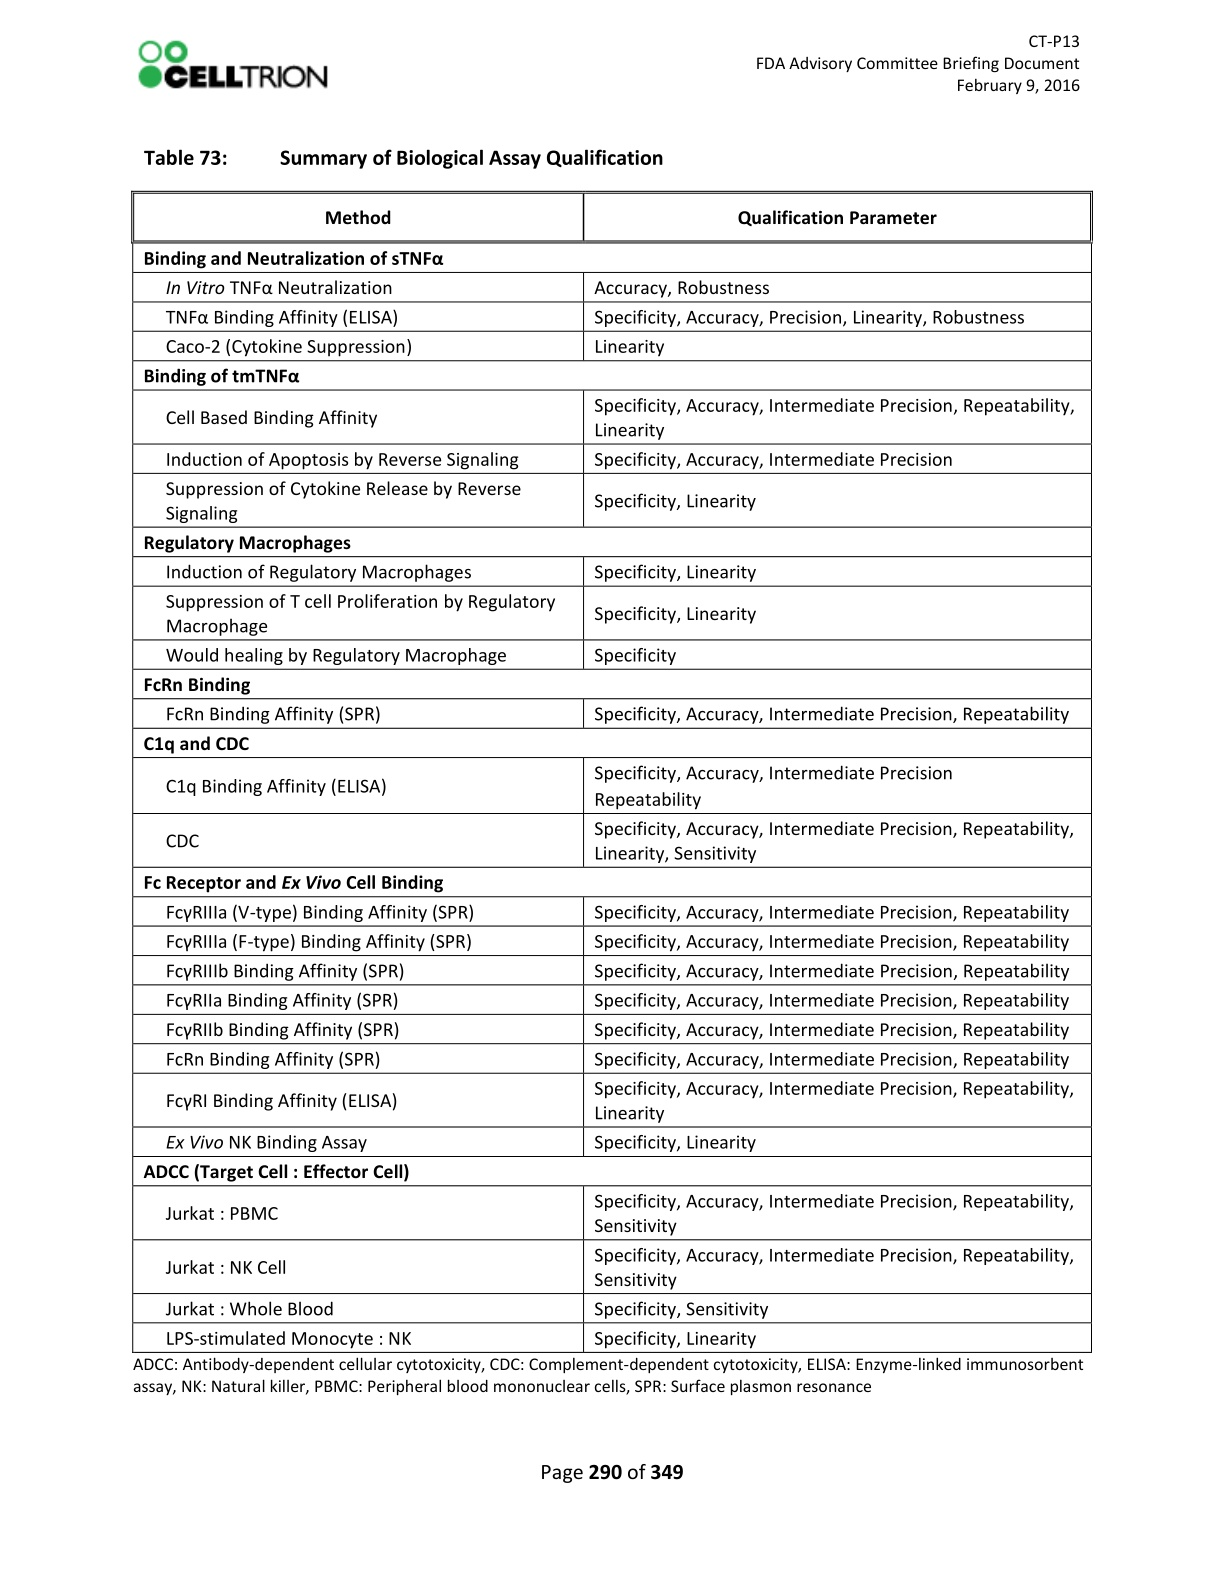merged_cells: (131, 189, 1092, 1354)
